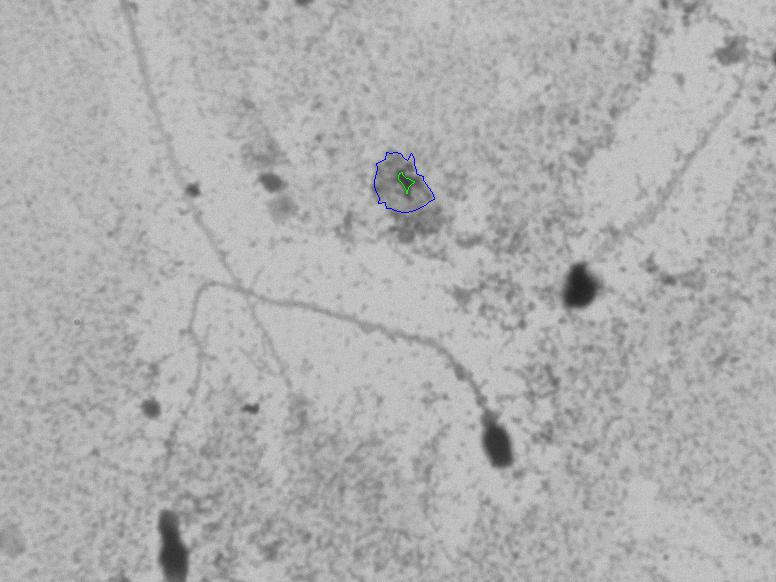Abnormal: (161, 267, 526, 493)
